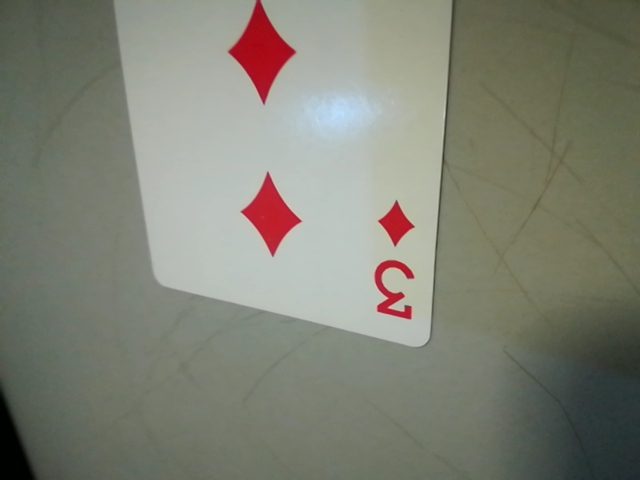fk 3: (357, 191, 429, 336)
